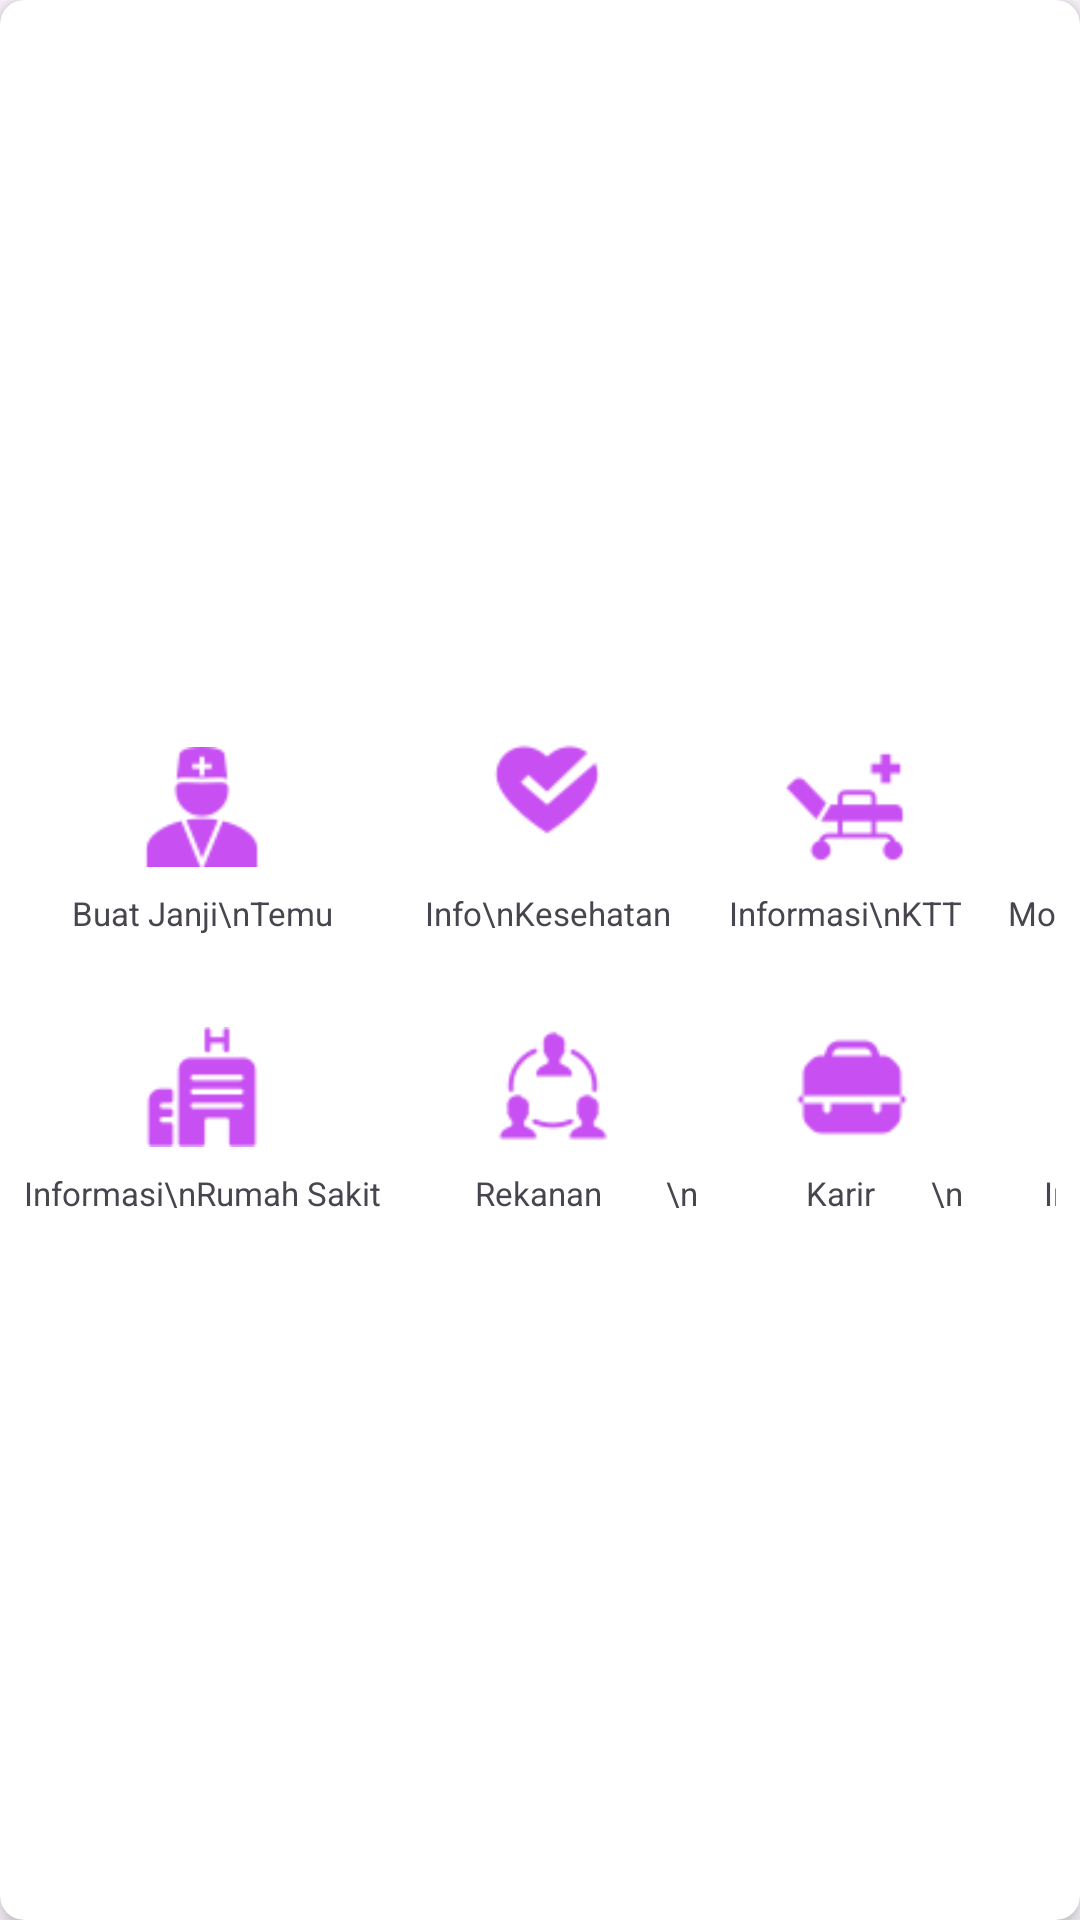

Icons on this 1080×1920 Android screen, each with the point to tap as point (x, y):
menucarrier: point (852, 1087)
menudoctor: point (202, 807)
menuhospitalbed: point (844, 807)
menuinfohealth: point (547, 789)
menupartner: point (553, 1085)
